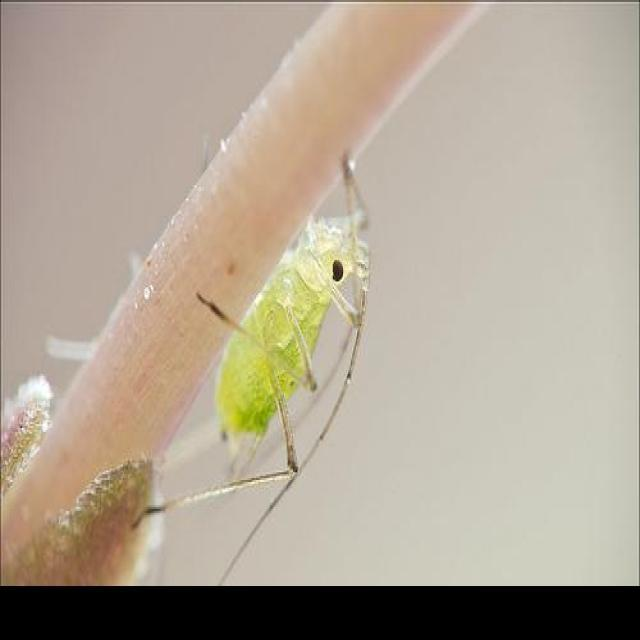aphid: (158, 162, 380, 550)
